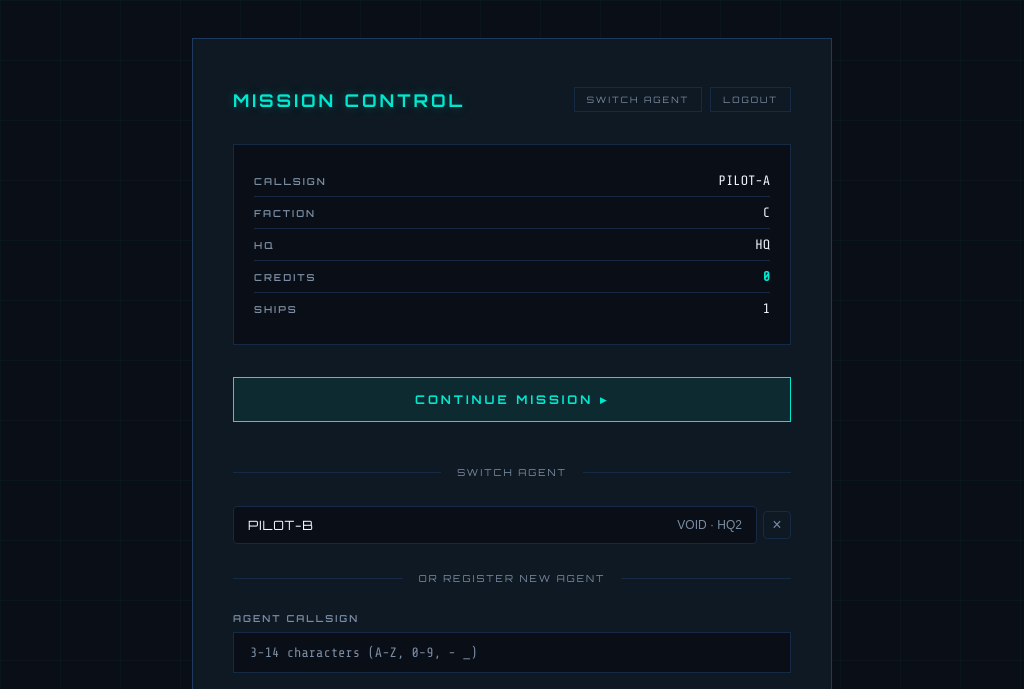
Test case: AgentScreen › handles error switching agents
What coordinates should you click on to do the following:
click the text "PILOT-B"
I would click on:
 (281, 525)
Its box is [248, 517, 314, 533].
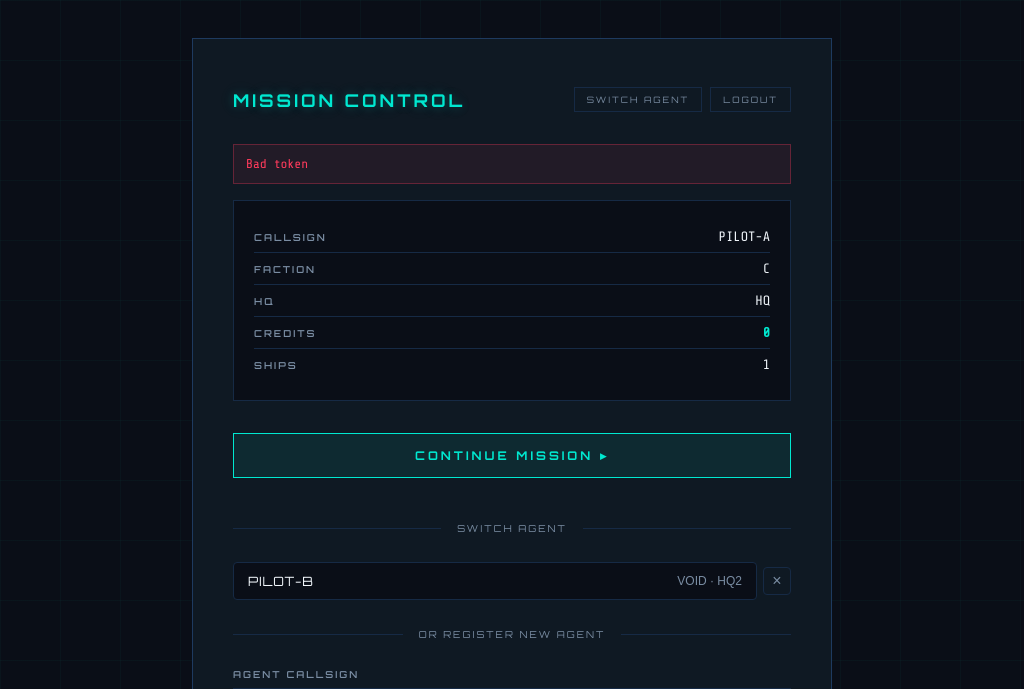
Check: the text "Bad token" is shown, box [233, 144, 791, 184]
